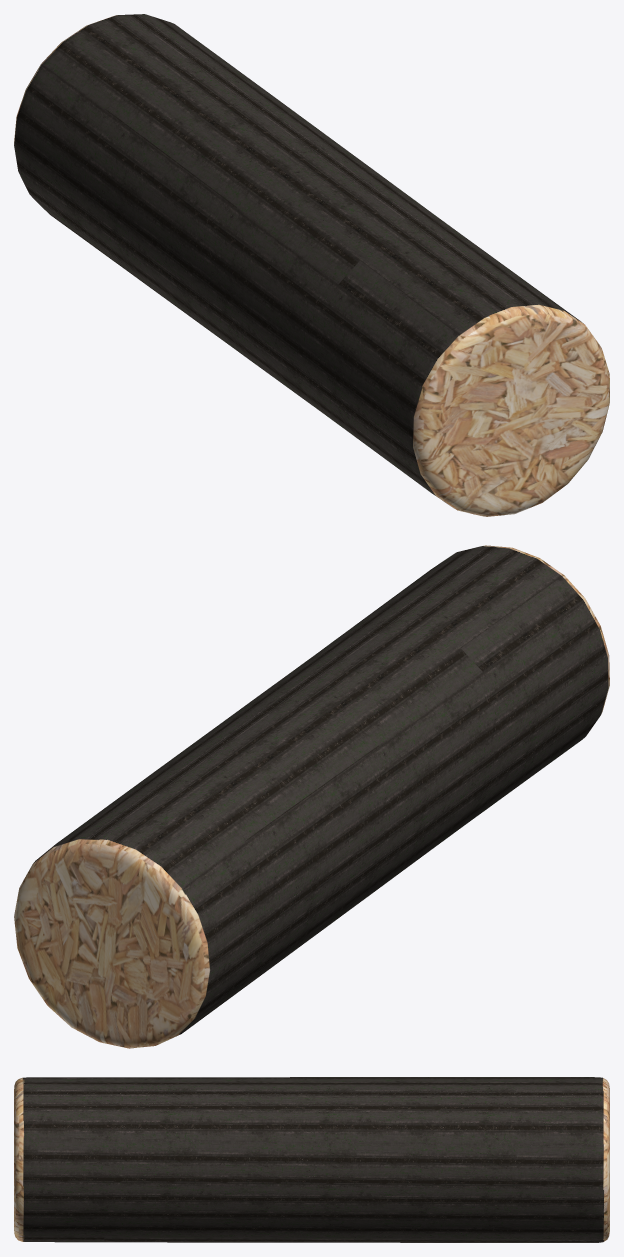
File: WoodLog.fbx
3 renders of one model, top to bottom at view 1: azimuth 30°, elevation 25°; view 2: azimuth 150°, elevation 25°; view 3: azimuth 270°, elevation 25°, orthographic. The views are drawn at different scales.
Visible parts, largest first — view 1: Wood Log; view 2: Wood Log; view 3: Wood Log.
Boxes of the visible parts, x1=… form: Wood Log: x1=14, y1=14, x2=609, y2=516; Wood Log: x1=14, y1=545, x2=609, y2=1048; Wood Log: x1=14, y1=1077, x2=609, y2=1242.
Bounding box in the file's own units: 98.81 × 98.88 × 355.
